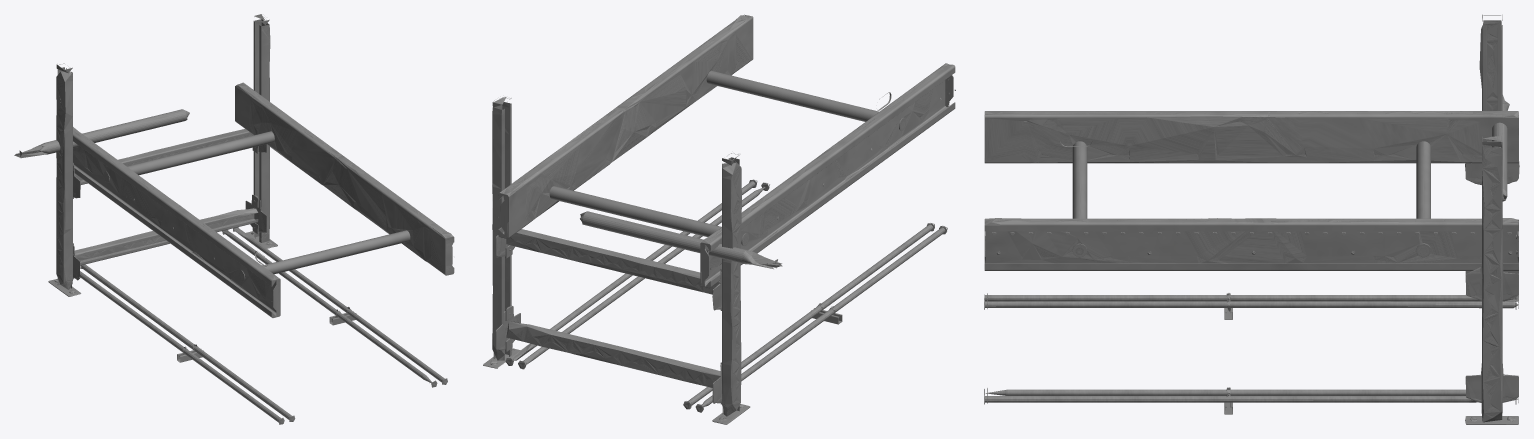
File: conveyor_belt_a05.glb
The picture shows the model from 3 angles, left to right: view 1: azimuth 30°, elevation 25°; view 2: azimuth 150°, elevation 25°; view 3: azimuth 270°, elevation 25°; orthographic projection. The views are drawn at different scales.
Visible parts, largest first — view 1: geometry_0; view 2: geometry_0; view 3: geometry_0.
Boxes of the visible parts, x1=… form: geometry_0: x1=14, y1=14, x2=454, y2=424; geometry_0: x1=483, y1=14, x2=955, y2=424; geometry_0: x1=984, y1=14, x2=1519, y2=424.
Bounding box in the file's own units: 0.2886 × 0.2464 × 0.42.
Materials: 1 (1 with a texture image).
